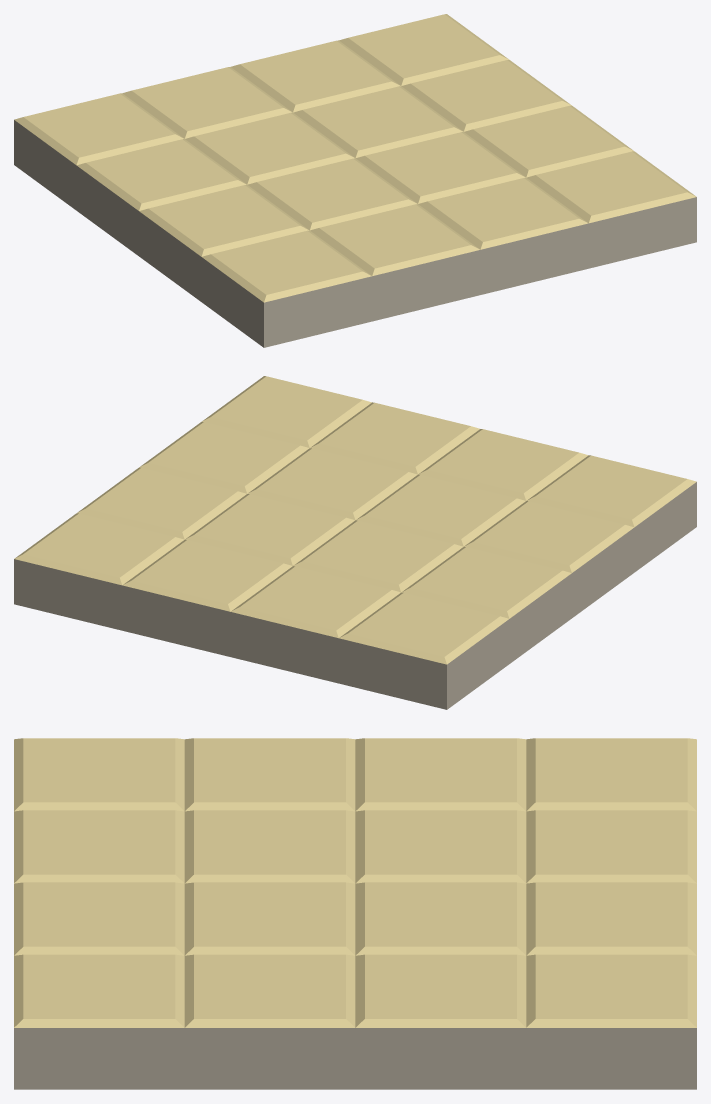
The model's file is Mesh_GroundCeramic_B2.fbx.
The picture shows the model from 3 angles, top to bottom: view 1: azimuth 30°, elevation 25°; view 2: azimuth 150°, elevation 25°; view 3: azimuth 270°, elevation 25°; orthographic projection. The views are drawn at different scales.
Parts seen in each view (by area): view 1: Mesh_GroundCeramic_B2; view 2: Mesh_GroundCeramic_B2; view 3: Mesh_GroundCeramic_B2.
Part boxes in pixels (left/top/right/bottom): Mesh_GroundCeramic_B2: left=14, top=14, right=696, bottom=347; Mesh_GroundCeramic_B2: left=14, top=376, right=696, bottom=709; Mesh_GroundCeramic_B2: left=14, top=738, right=696, bottom=1089.
Size of the model in its own units: 1 by 0.1082 by 1.
